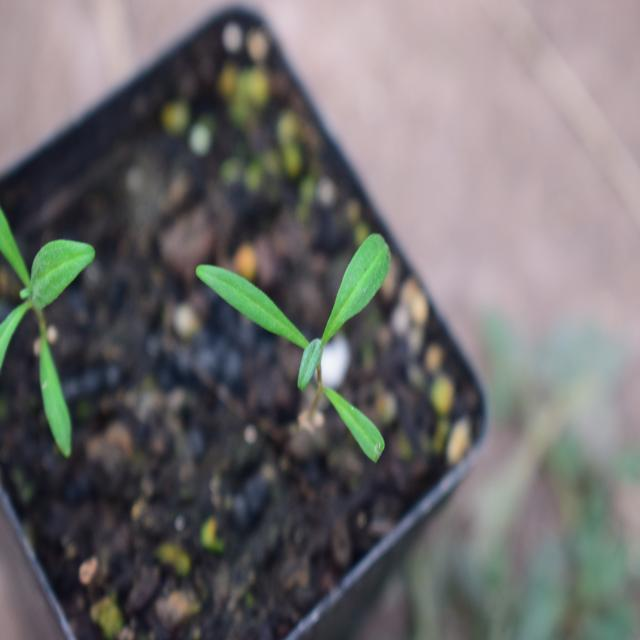white_smart_weed: (173, 211, 408, 504)
